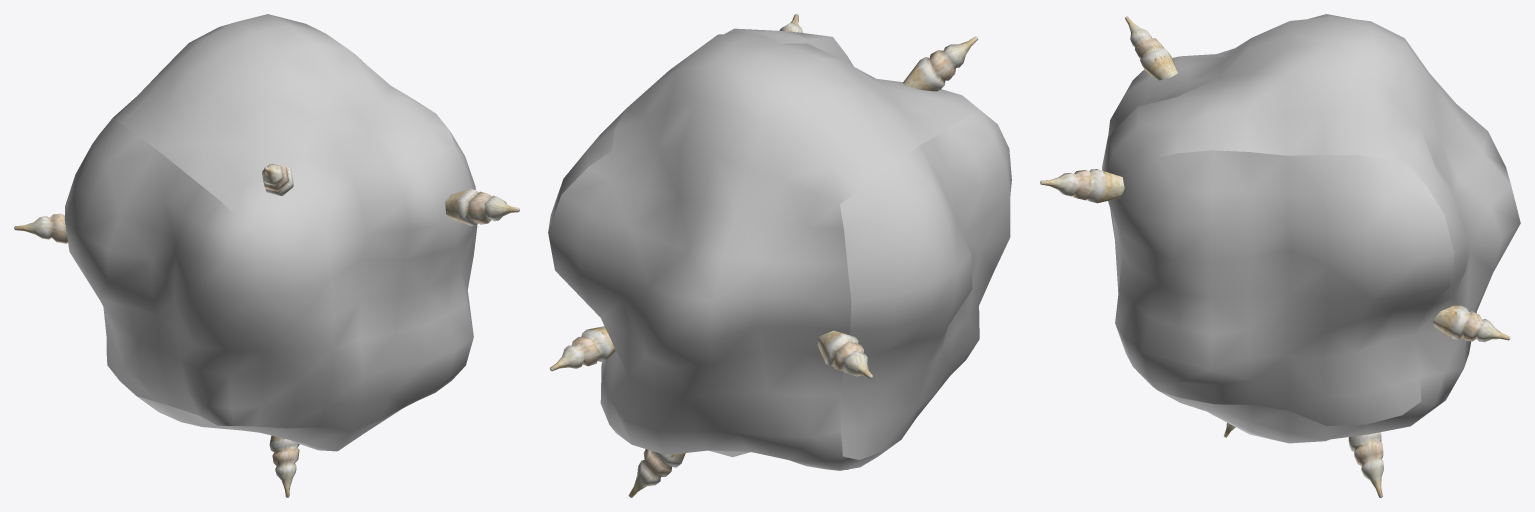
The model's file is dropofwatercore.dae.
3 views of the same model, side by side, from view 1: azimuth 30°, elevation 25°; view 2: azimuth 150°, elevation 25°; view 3: azimuth 270°, elevation 25° (orthographic). The views are drawn at different scales.
Visible parts, largest first — view 1: n1b0, n0b1; view 2: n1b0, n0b1; view 3: n1b0, n0b1.
Part boxes in pixels (x1,y1,x2,y2): n1b0: (64,14,477,451); n0b1: (14,163,519,497); n1b0: (548,28,1011,470); n0b1: (550,14,978,497); n1b0: (1102,14,1520,443); n0b1: (1040,16,1510,497).
Size of the model in its own units: 299 by 354 by 366.
